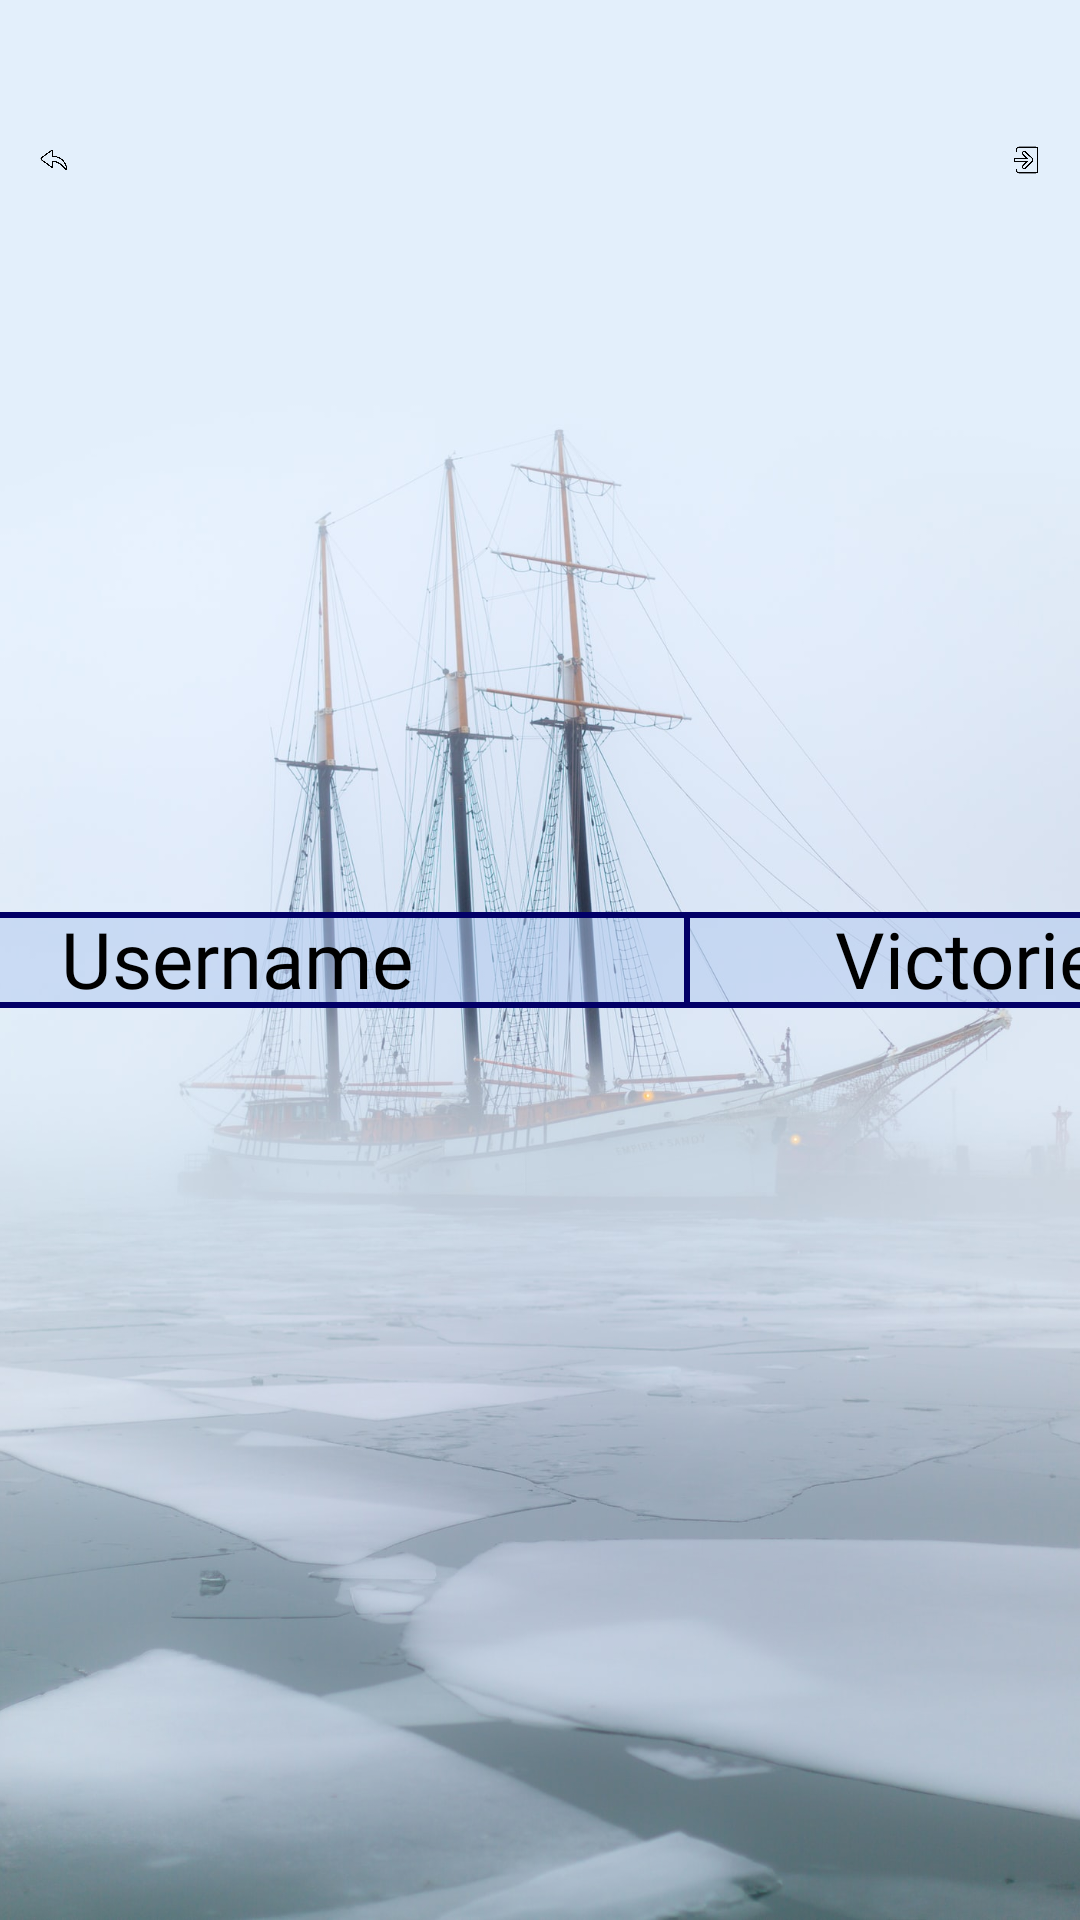

Locate icon controls on the screen. Image size 1080×1920, boxes as {"left": x1, "top": y1, "right": x2, "bottom": y2}.
Exit: {"left": 1014, "top": 146, "right": 1038, "bottom": 174}
